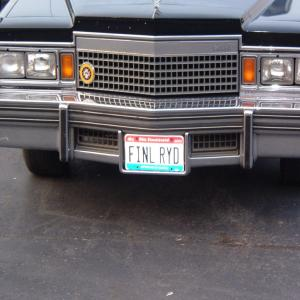Vehicle-registration-plate: (125, 130, 188, 173)
